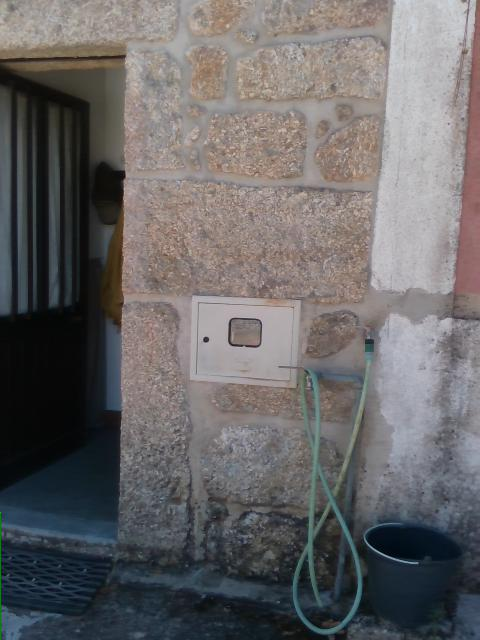door: (1, 69, 90, 490)
